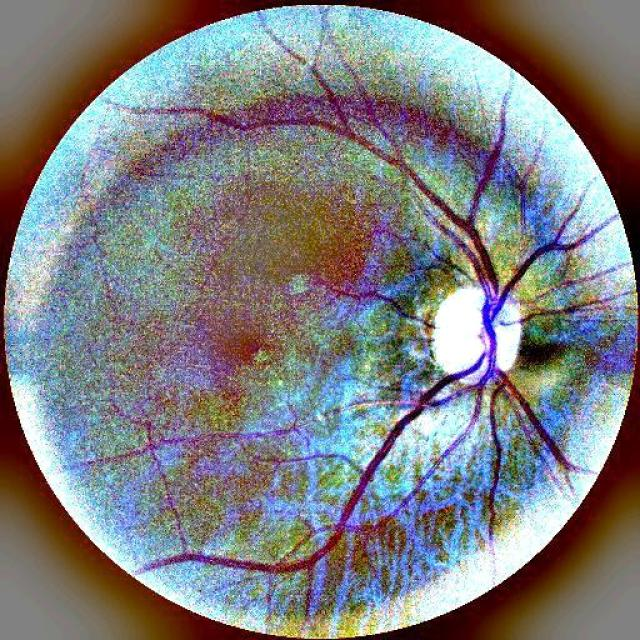Nerves: (340, 179, 615, 529), (355, 136, 496, 289), (341, 371, 468, 519), (499, 372, 572, 469)
Optic Disk: (431, 285, 488, 374), (495, 301, 520, 371)
